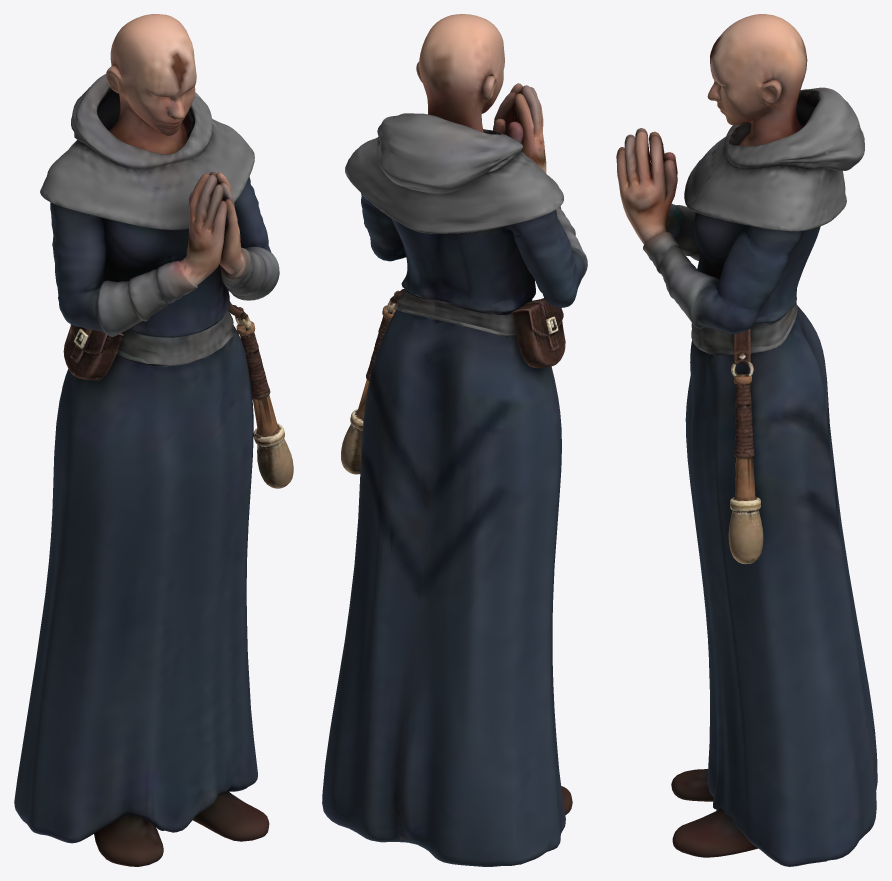
File: MZ4250 - Acolyte Female_1 2025.glb
The picture shows the model from 3 angles, left to right: view 1: azimuth 30°, elevation 25°; view 2: azimuth 150°, elevation 25°; view 3: azimuth 270°, elevation 25°; orthographic projection.
Visible parts, largest first — view 1: Body.003; view 2: Body.003; view 3: Body.003.
Part boxes in pixels (box(x1,y1,x2,y2)): Body.003: box(14, 14, 293, 866); Body.003: box(322, 14, 587, 866); Body.003: box(616, 14, 877, 866).
Bounding box in the file's own units: 27.93 × 90.25 × 26.66.
Materials: 2 (2 with a texture image).
